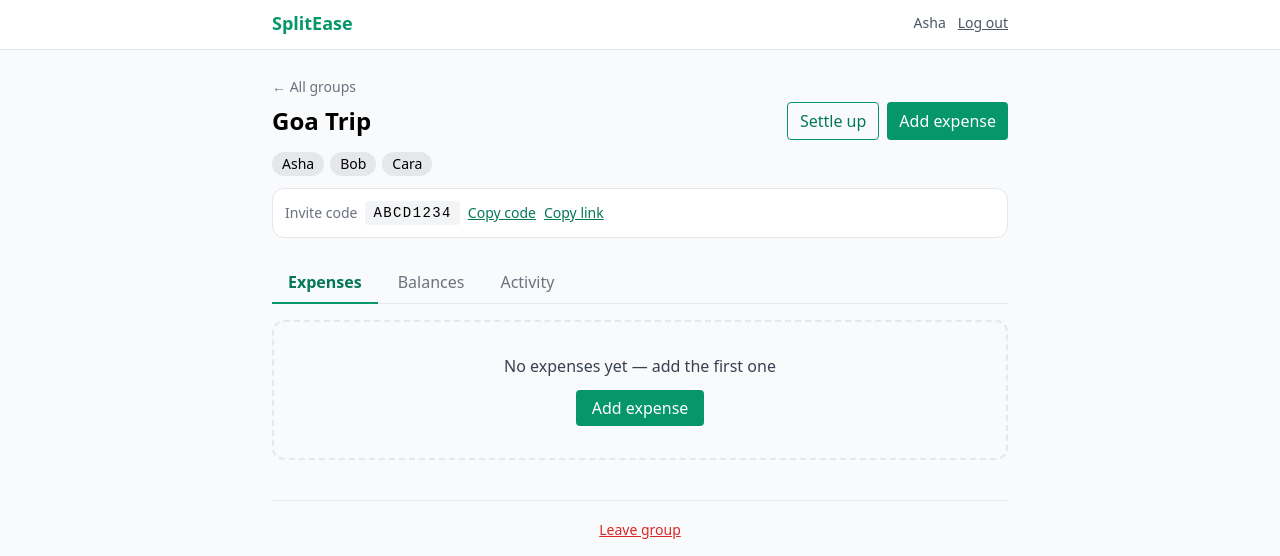
Test case: activity tab › shows an empty state
Click the tab "Activity": (527,283) [484,262,570,304]
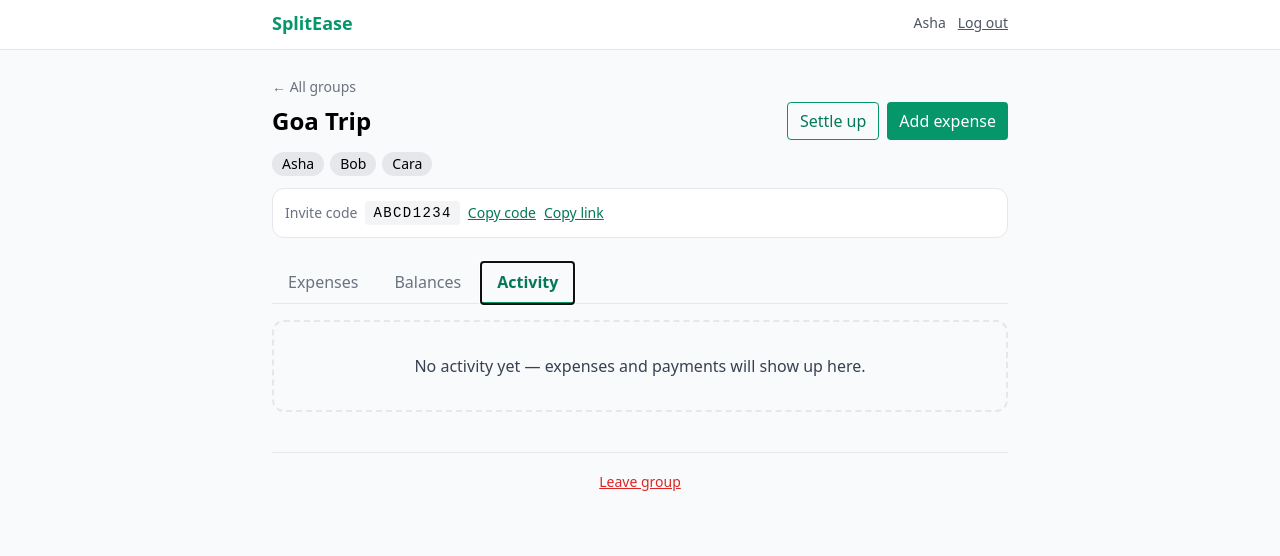
Now the text "No activity yet — expenses and payments will show up here." is shown, box [414,355,866,377]
